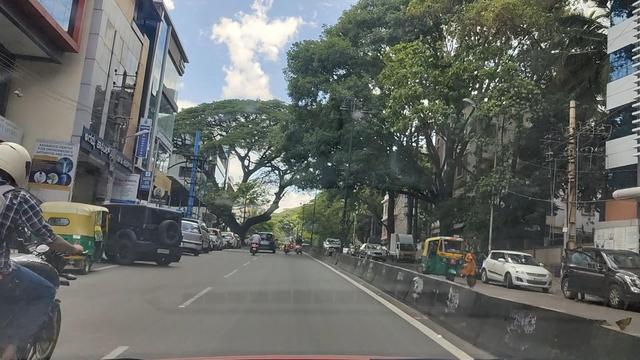LMV: (115, 211, 192, 271), (52, 207, 103, 244)
